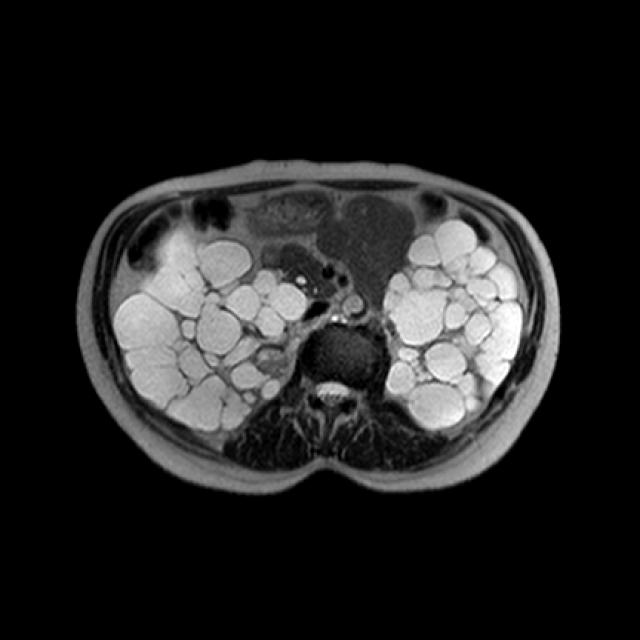sag: (114, 225, 308, 432)
sol: (382, 218, 524, 432)
